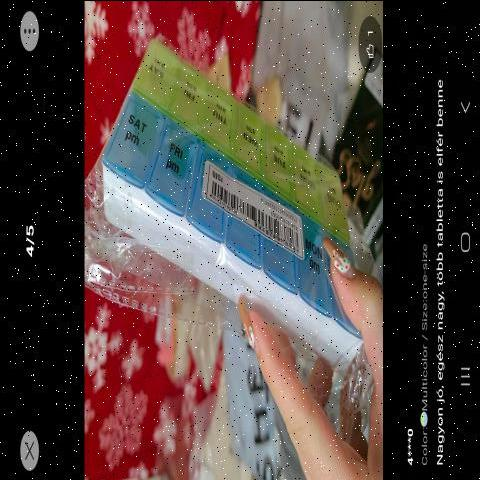PillBox: (82, 30, 382, 388)
